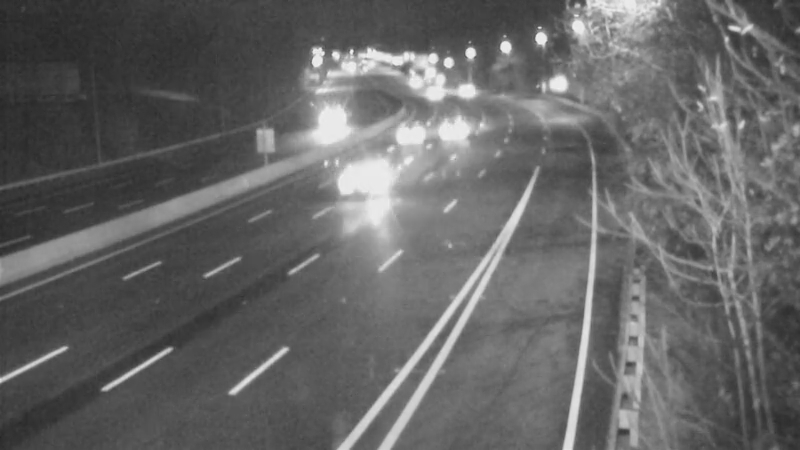vehicle: (323, 140, 403, 220), (440, 63, 490, 113), (408, 68, 458, 118), (430, 103, 480, 153), (391, 109, 441, 159), (307, 97, 357, 147)
